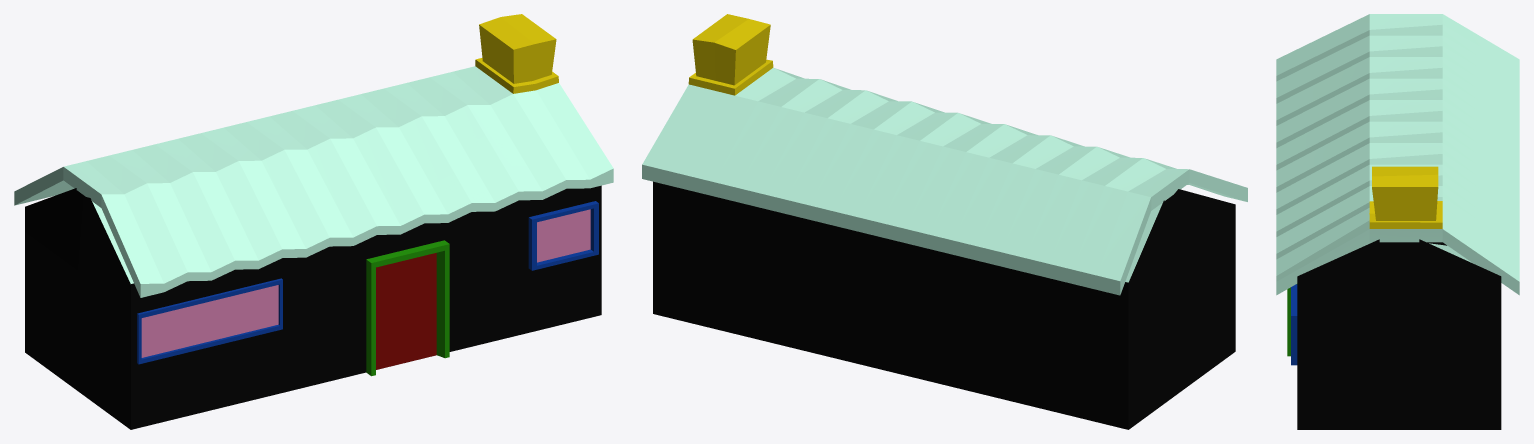
File: Cabin_KW.fbx
3 renders of one model, left to right at view 1: azimuth 30°, elevation 25°; view 2: azimuth 150°, elevation 25°; view 3: azimuth 270°, elevation 25°, orthographic. The views are drawn at different scales.
Visible parts, largest first — view 1: Cabin_KW; view 2: Cabin_KW; view 3: Cabin_KW.
Boxes of the visible parts, <box> form: Cabin_KW: <box>14,14,613,429</box>; Cabin_KW: <box>642,14,1247,429</box>; Cabin_KW: <box>1276,14,1519,429</box>.
Bounding box in the file's own units: 2195 × 1114 × 1014.
